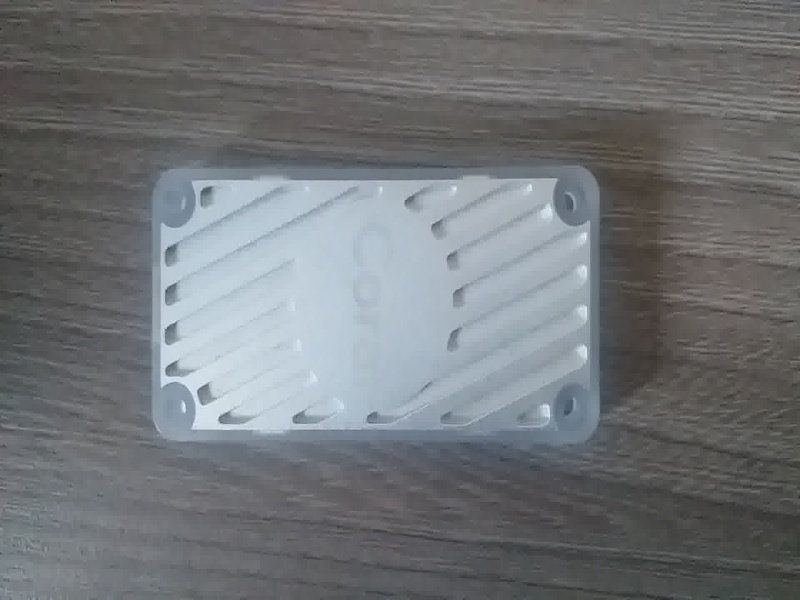coral: (139, 155, 617, 468)
